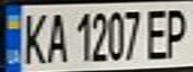0: (109, 7, 127, 62)
1: (69, 8, 93, 63)
2: (90, 7, 109, 62)
7: (124, 7, 145, 61)
A: (42, 8, 69, 64)
E: (142, 6, 175, 61)
K: (18, 8, 51, 65)
P: (160, 4, 193, 60)
